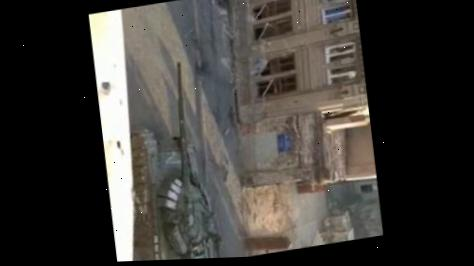tank: (104, 55, 229, 262)
